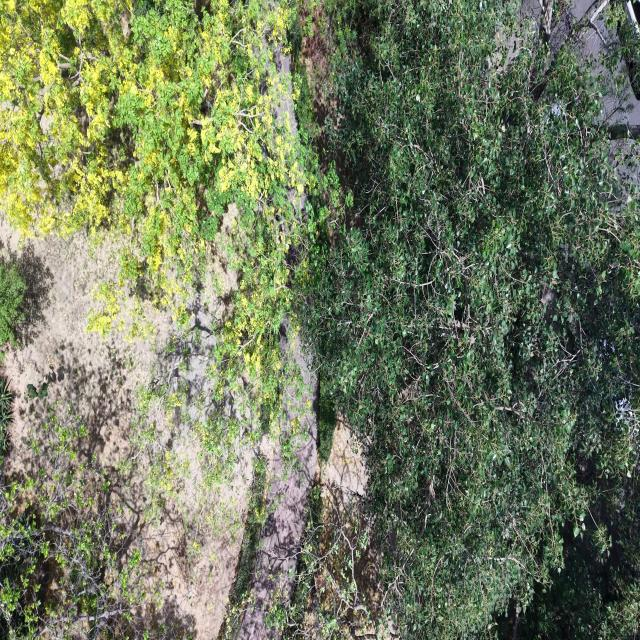DRY_AREA: (0, 222, 251, 639), (0, 222, 250, 639), (0, 225, 250, 639), (0, 221, 171, 473), (238, 368, 391, 639), (156, 296, 251, 639), (238, 319, 317, 639), (238, 321, 317, 639), (321, 412, 368, 502)
PATHWAYS: (238, 319, 317, 639), (238, 321, 317, 639)
VEGETATION_TREE: (0, 0, 639, 639), (303, 0, 639, 638), (0, 0, 313, 479), (0, 0, 312, 434), (0, 0, 301, 331), (0, 408, 178, 639), (269, 483, 384, 639), (219, 459, 268, 639), (0, 261, 25, 362), (318, 382, 335, 463), (0, 377, 14, 456)
